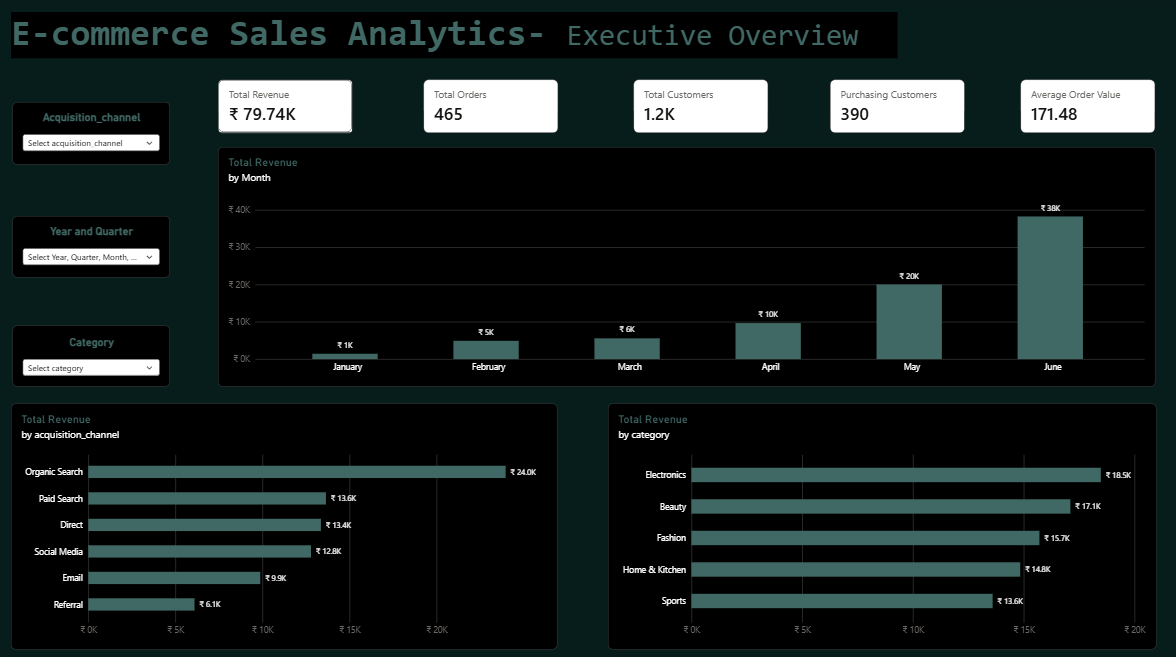

The dashboard page shown, as its layout file describes it:
{"tool":"powerbi","page":{"name":"Executive Overview","canvas":[1920,1080],"ordinal":0},"visuals":[{"type":"cardVisual","title":"Total Revenue","fields":{"Data":["measure.Total Revenue"]},"box":[361,134.1,219.5,87.8],"z":0},{"type":"cardVisual","fields":{"Data":["measure.Total Orders"]},"box":[695.1,134.1,219.5,87.8],"z":1000},{"type":"cardVisual","fields":{"Data":["measure.Total Customers"]},"box":[1036.6,134.1,219.5,87.8],"z":2000},{"type":"cardVisual","fields":{"Data":["measure.Purchasing Customers"]},"box":[1356.1,134.1,219.5,87.8],"z":3000},{"type":"cardVisual","fields":{"Data":["measure.Average Order Value"]},"box":[1665.9,134.1,219.5,87.8],"z":4000},{"type":"clusteredColumnChart","fields":{"Category":["orders.order_date.Variation.Date Hierarchy.Month"],"Y":["measure.Total Revenue"]},"box":[361,243.9,1524.4,390.2],"z":5000},{"type":"clusteredBarChart","fields":{"Category":["customers.acquisition_channel"],"Y":["measure.Total Revenue"]},"box":[25,661.1,888.9,400],"z":6000},{"type":"clusteredBarChart","fields":{"Category":["products.category"],"Y":["measure.Total Revenue"]},"box":[994.4,661.1,891.7,400],"z":7000},{"type":"listSlicer","fields":{"Values":["orders.order_date.Variation.Date Hierarchy.Year","orders.order_date.Variation.Date Hierarchy.Quarter","orders.order_date.Variation.Date Hierarchy.Month","orders.order_date.Variation.Date Hierarchy.Day"]},"box":[26.8,356.1,256.2,100],"z":8000},{"type":"listSlicer","title":"Acquisition_channel","fields":{"Values":["customers.acquisition_channel"]},"box":[26.8,170.7,256,102],"z":9000},{"type":"listSlicer","title":"Category","fields":{"Values":["products.category"]},"box":[26.8,534.1,256.2,99],"z":10000},{"type":"textbox","box":[24.4,24.4,1441.9,75.6],"z":11000}]}

Visuals, with their boxes in screenshot pixels (x1, y1, x2, y2), scaled from the page's 1920x1080 canvas onto the 1176x657 screenshot:
"Total Revenue" cardVisual: 221 82 356 135
cardVisual - measure.Total Orders: 426 82 560 135
cardVisual - measure.Total Customers: 635 82 769 135
cardVisual - measure.Purchasing Customers: 831 82 965 135
cardVisual - measure.Average Order Value: 1020 82 1155 135
clusteredColumnChart - orders.order_date.Variation.Date Hierarchy.Month x measure.Total Revenue: 221 148 1155 386
clusteredBarChart - customers.acquisition_channel x measure.Total Revenue: 15 402 560 646
clusteredBarChart - products.category x measure.Total Revenue: 609 402 1155 646
listSlicer - orders.order_date.Variation.Date Hierarchy.Year x orders.order_date.Variation.Date Hierarchy.Quarter: 16 217 173 277
"Acquisition_channel" listSlicer: 16 104 173 166
"Category" listSlicer: 16 325 173 385
textbox: 15 15 898 61
